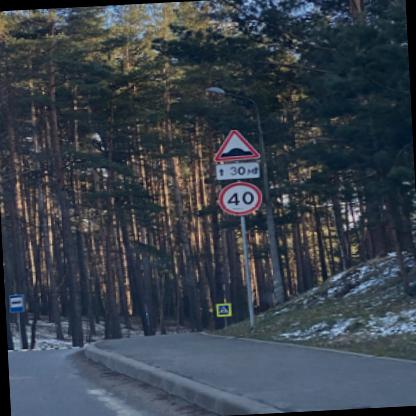crosswalk: (216, 303, 228, 314)
speedlimit: (215, 180, 260, 214)
